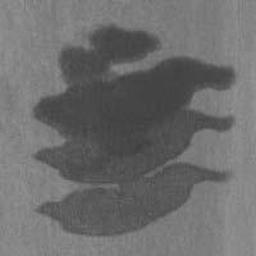Oil spot: (32, 23, 236, 236)
